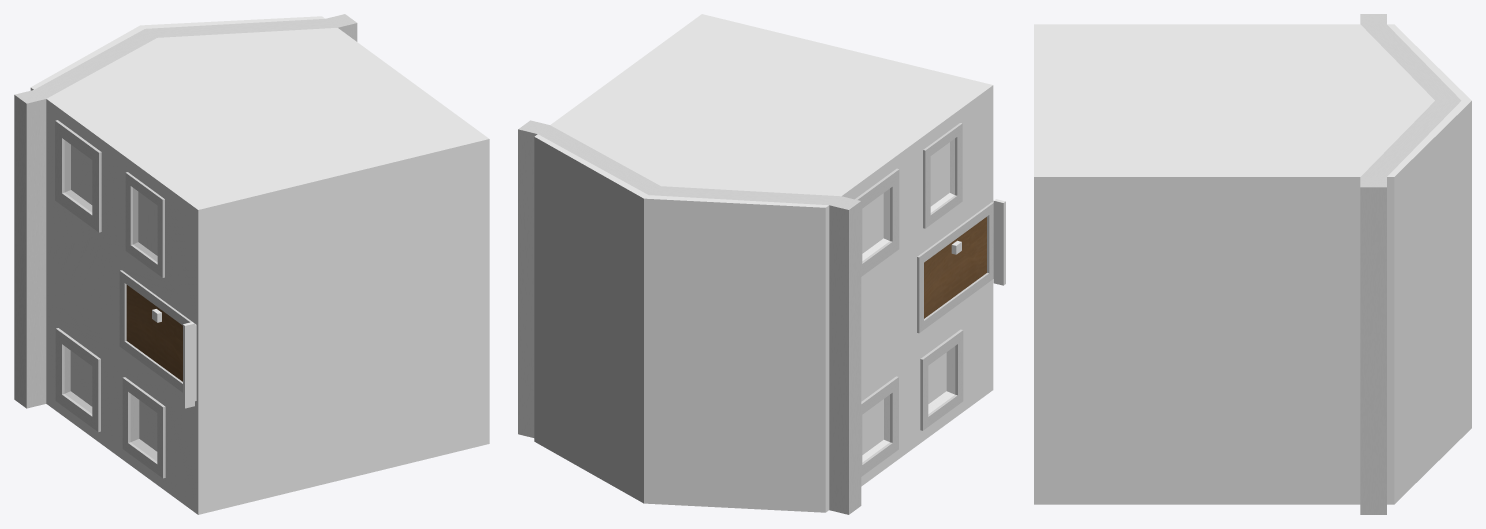
The model's file is venice_murano_3.fbx.
The picture shows the model from 3 angles, left to right: view 1: azimuth 30°, elevation 25°; view 2: azimuth 150°, elevation 25°; view 3: azimuth 270°, elevation 25°; orthographic projection. The views are drawn at different scales.
Parts seen in each view (by area): view 1: Cube.343; view 2: Cube.343; view 3: Cube.343.
Boxes of the visible parts, left/top/right/bottom form: Cube.343: left=14, top=14, right=489, bottom=514; Cube.343: left=518, top=14, right=1005, bottom=514; Cube.343: left=1034, top=14, right=1471, bottom=514.
Size of the model in its own units: 897 by 790 by 956.
